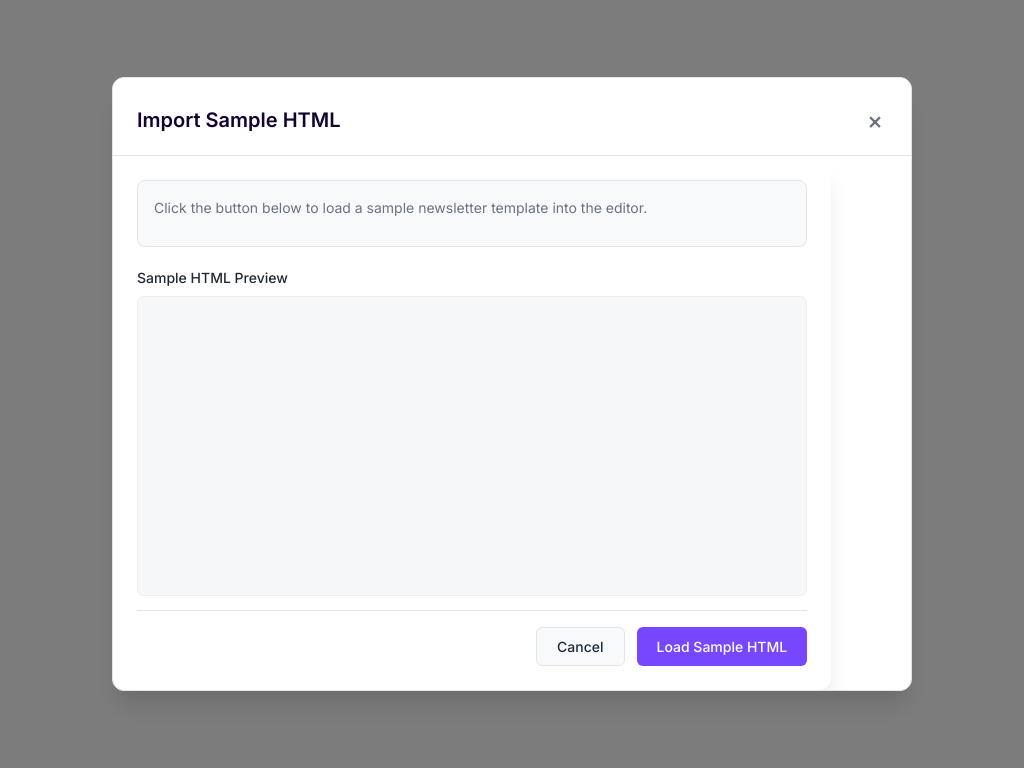
Test: HtmlImportModal component › should display error message on import failure
The width and height of the screenshot is (1024, 768).
Step 1. Click the button "Load Sample HTML" → [722, 647], box [636, 627, 807, 666]
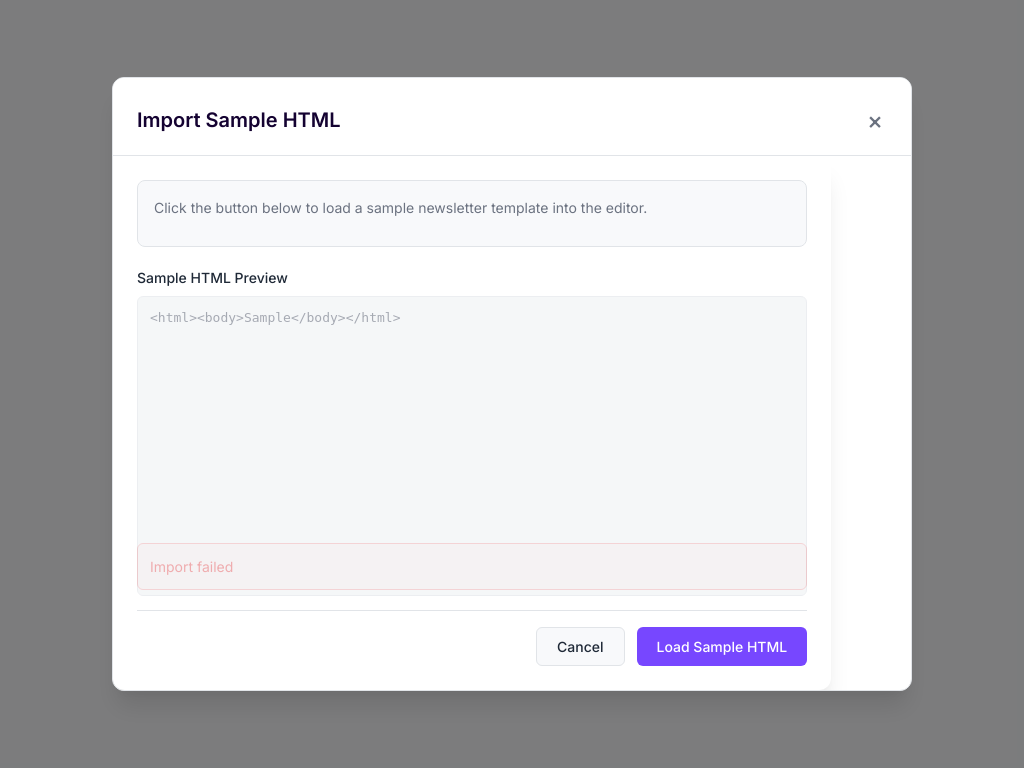
Expected: the text "Import failed" is shown, [150, 558, 233, 575]
